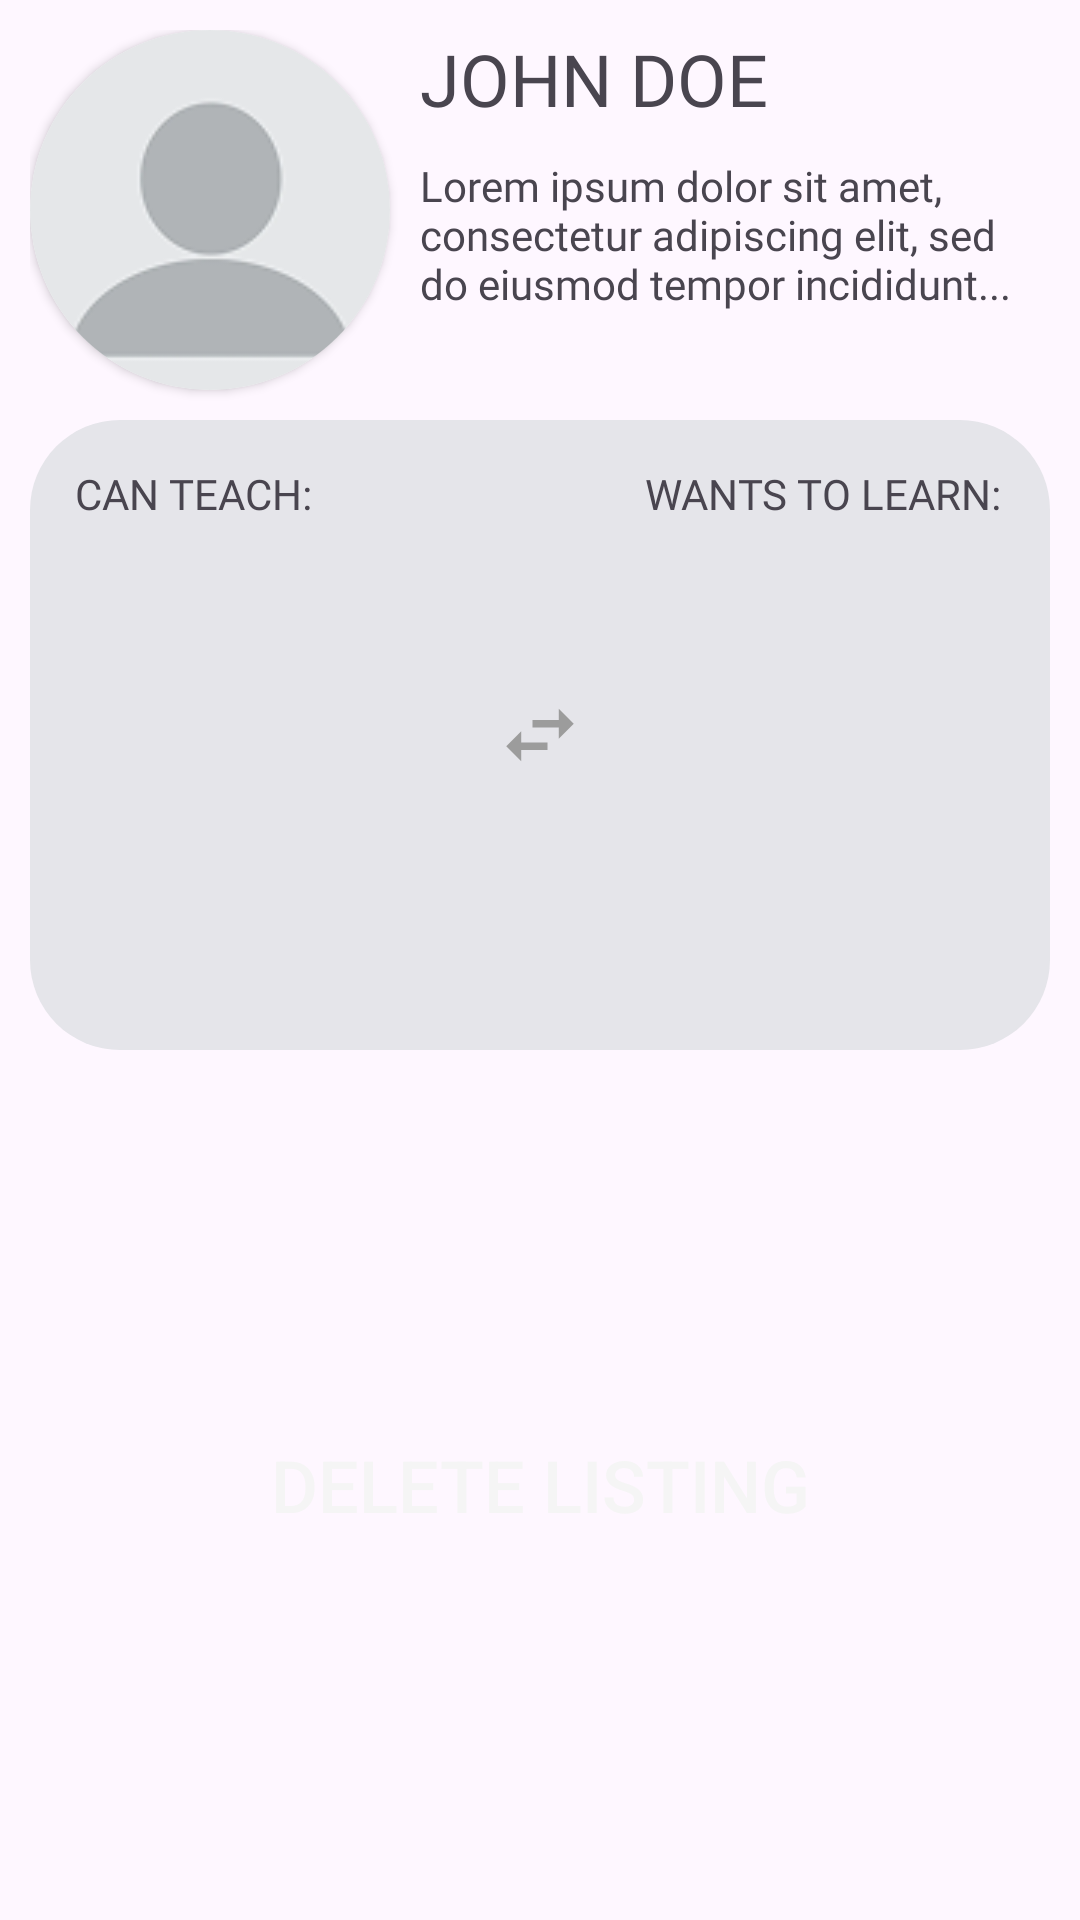

Locate icon controls on the screen. Image size 1080 × 1920, boxes as {"x1": x1, "y1": y1, "x2": x2, "y2": y2}.
def profile: {"x1": 30, "y1": 30, "x2": 390, "y2": 390}
swap: {"x1": 506, "y1": 709, "x2": 574, "y2": 761}
